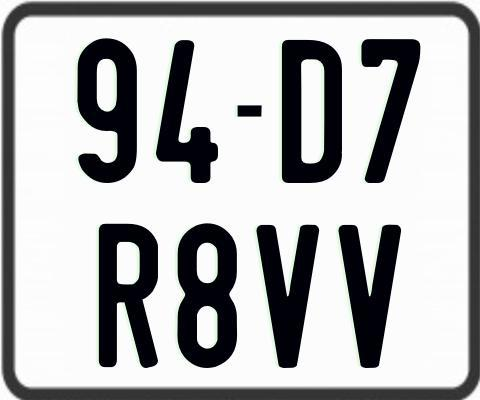4: (154, 40, 220, 186)
7: (360, 39, 420, 188)
8: (177, 220, 238, 368)
9: (77, 38, 143, 183)
D: (279, 40, 341, 184)
R: (97, 224, 158, 370)
V: (253, 222, 319, 367), (337, 224, 402, 367)
